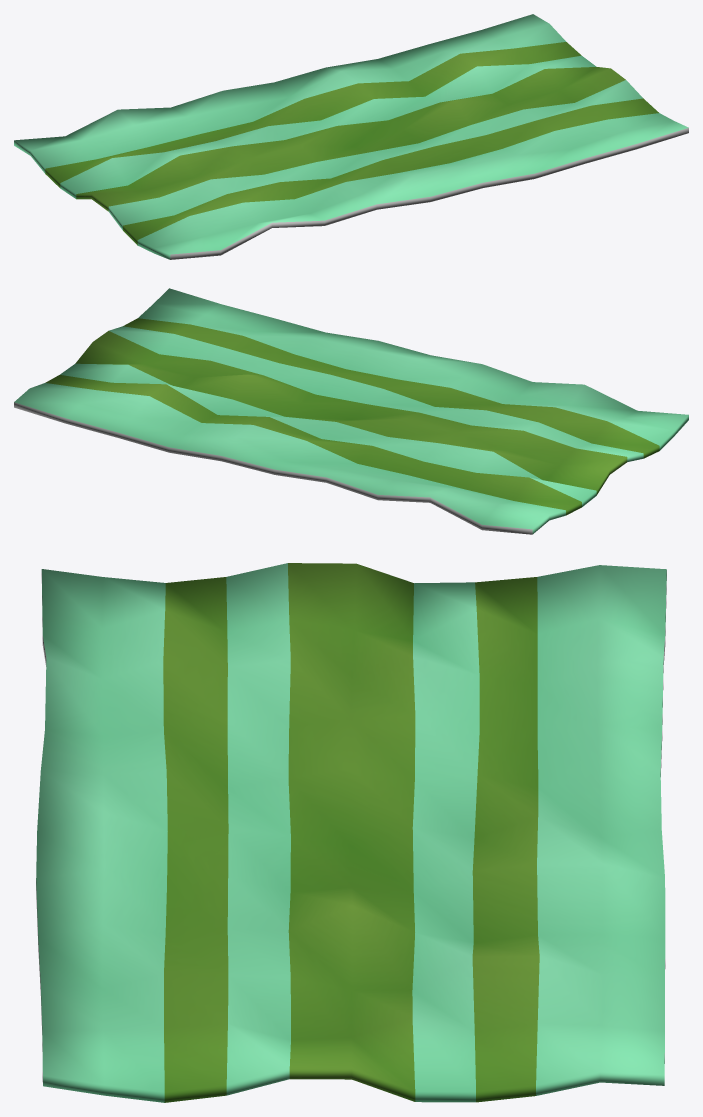
The model's file is toalla2.fbx.
3 renders of one model, top to bottom at view 1: azimuth 30°, elevation 25°; view 2: azimuth 150°, elevation 25°; view 3: azimuth 270°, elevation 25°, orthographic. The views are drawn at different scales.
Parts seen in each view (by area): view 1: toalla2; view 2: toalla2; view 3: toalla2.
Part boxes in pixels (x1,y1,x2,y2): toalla2: (14, 14, 688, 259); toalla2: (14, 288, 688, 534); toalla2: (36, 563, 666, 1102).
Bounding box in the file's own units: 198 × 8.07 × 104.
1 material, 1 textured.
